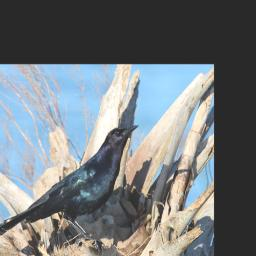Crow: (0, 125, 139, 255)
